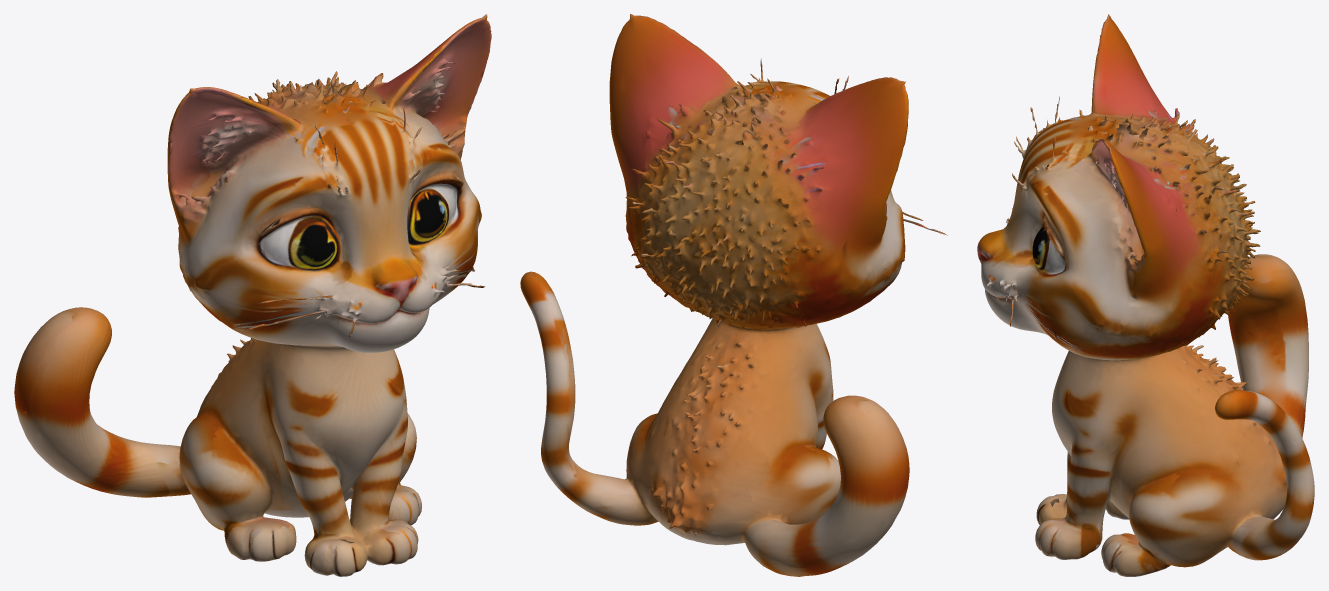
3 renders of one model, left to right at view 1: azimuth 30°, elevation 25°; view 2: azimuth 150°, elevation 25°; view 3: azimuth 270°, elevation 25°, orthographic. The views are drawn at different scales.
Visible parts, largest first — view 1: texture_pbr_v128; view 2: texture_pbr_v128; view 3: texture_pbr_v128.
Boxes of the visible parts, left/top/right/bottom form: texture_pbr_v128: left=14, top=14, right=491, bottom=576; texture_pbr_v128: left=520, top=14, right=947, bottom=576; texture_pbr_v128: left=977, top=14, right=1314, bottom=576.
Size of the model in its own units: 0.9069 by 0.9781 by 0.6528.
Materials: 1 (1 with a texture image).
